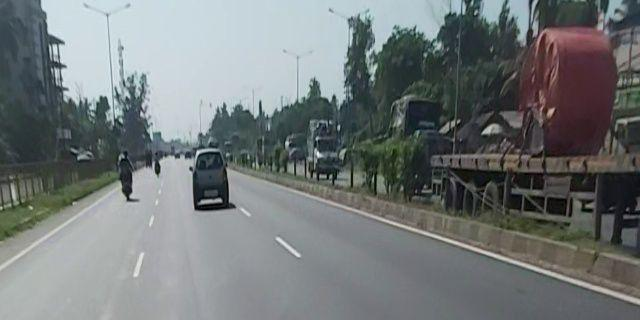Car: (183, 147, 241, 210)
Motorbike: (109, 149, 139, 207)
